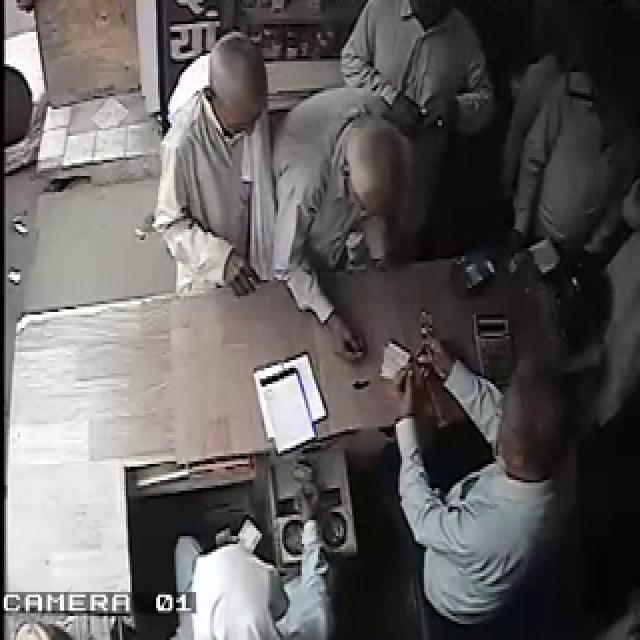shoplifting: (159, 3, 496, 355)
